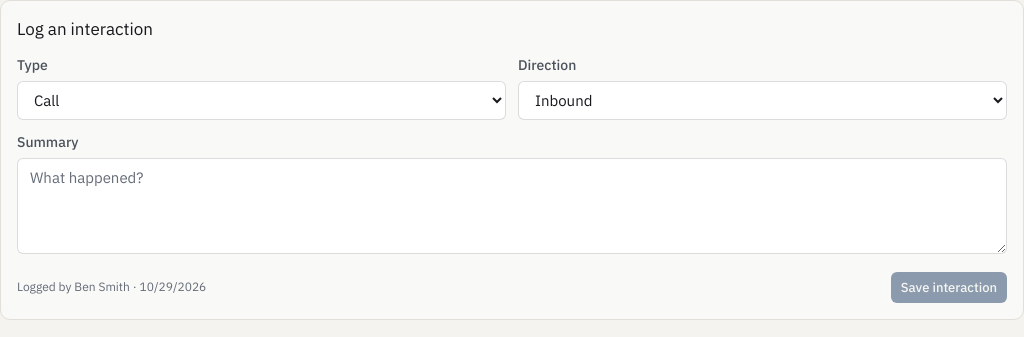
QuickLogForm › direction visibility › hides the direction field for notes
The width and height of the screenshot is (1024, 337).
Expected: the dropdown labelled "Direction" is shown, [518,80,1007,120]
Select "Note" in the dropdown labelled "Type" at (262, 100), box [17,80,506,120]
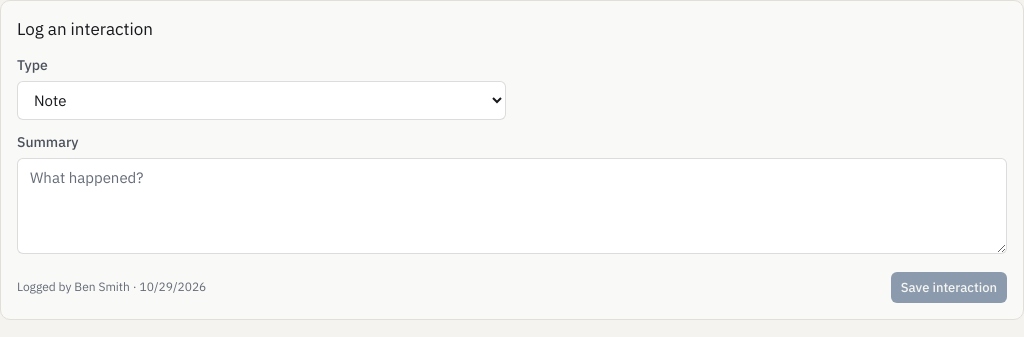
Expected: the label labelled "Direction" is gone
